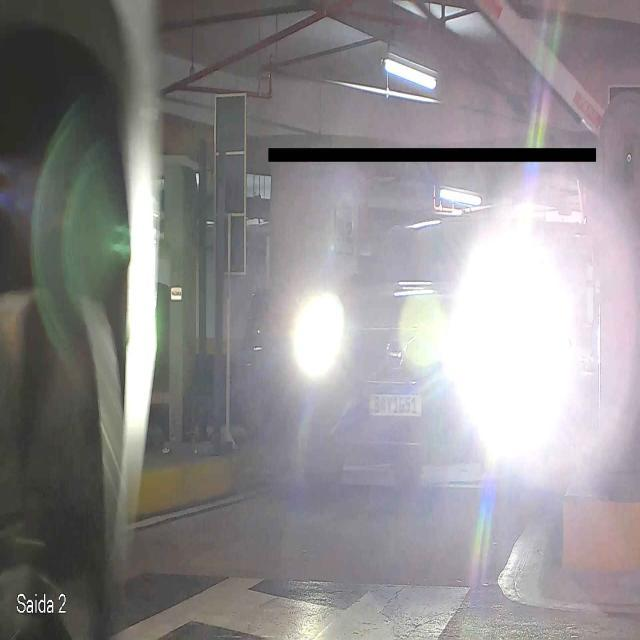mercosul_plate: (366, 386, 424, 418)
